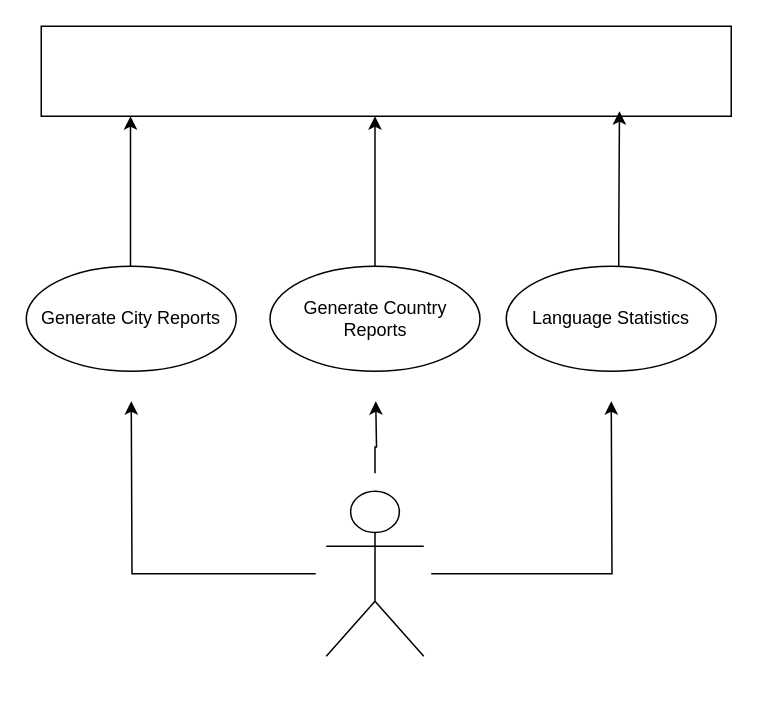
This 758x714 diagram has some shape labels left out. Here are the shapes that lost their labels. From the top down, the box of each, then its label:
(40, 25, 731, 116): Population Reporting System
(325, 490, 424, 656): User Analyst
